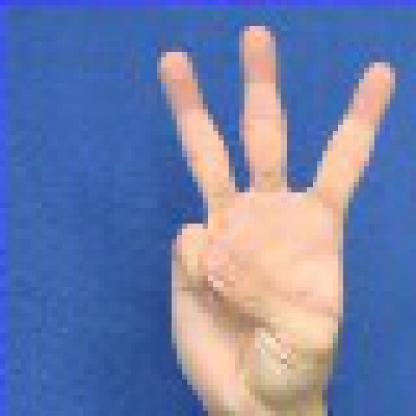three: (121, 20, 401, 416)
